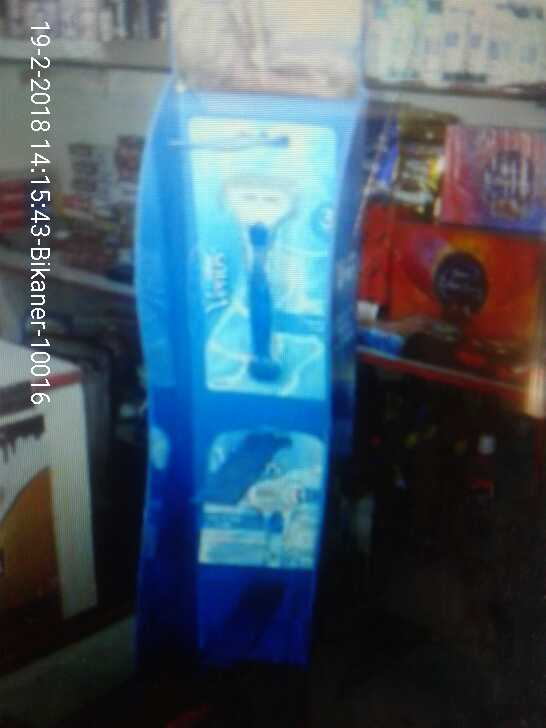venus: (190, 115, 329, 408), (203, 432, 325, 580)
